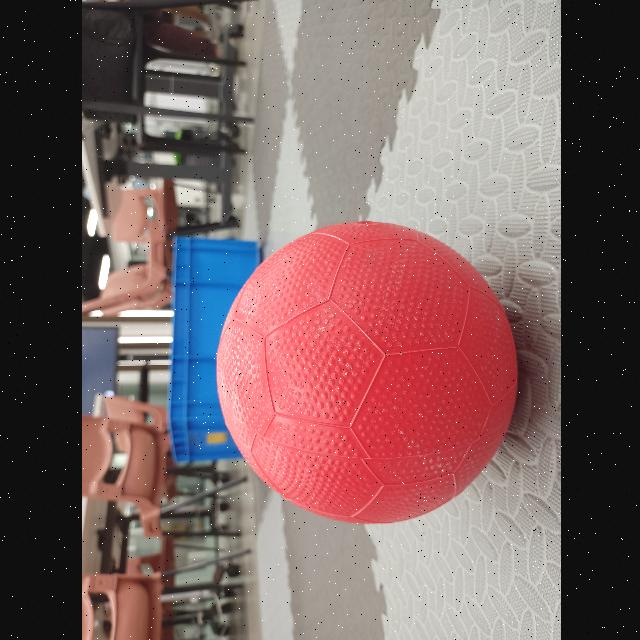R: (212, 218, 518, 526)
